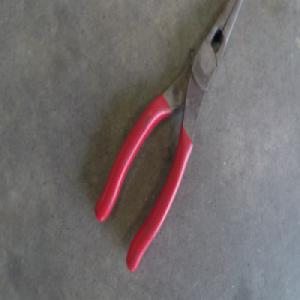Pliers: (94, 1, 255, 276)
